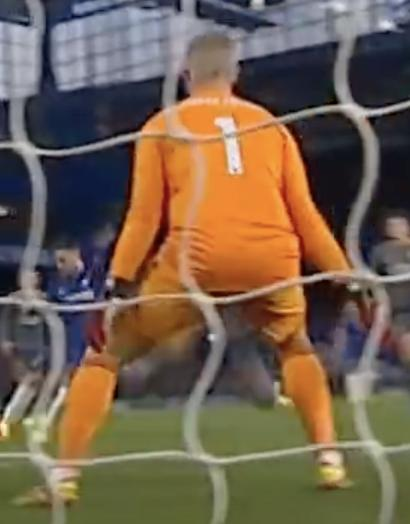goalkeeper: (22, 6, 379, 511)
